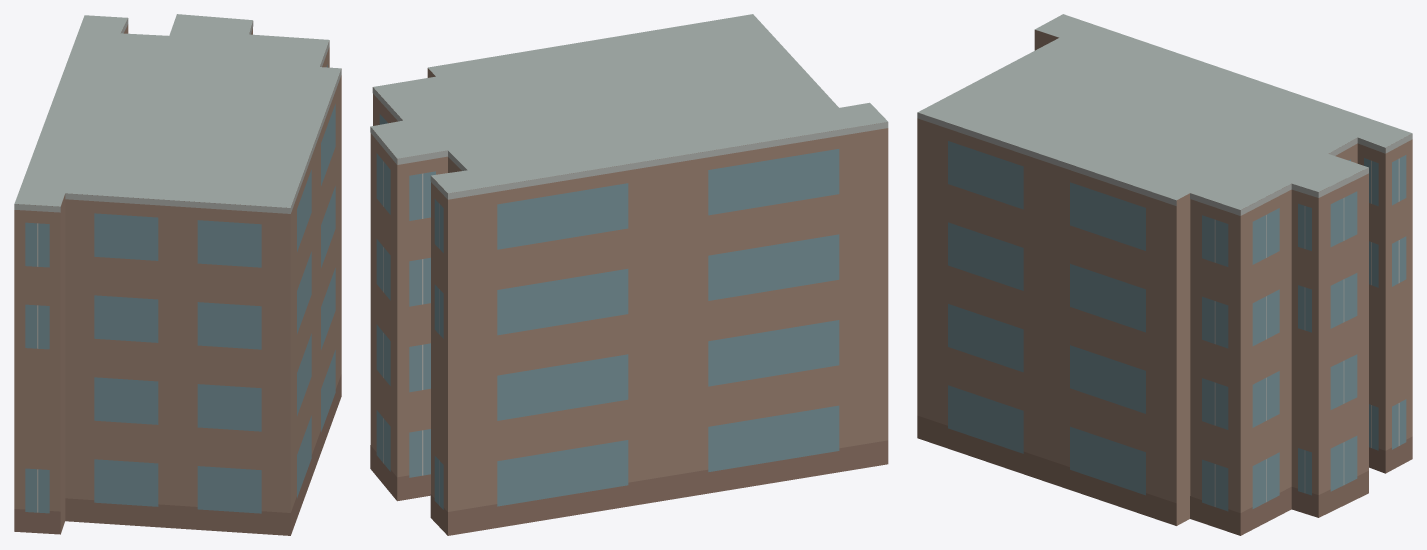
File: survey-upis-32585047.glb
3 views of the same model, side by side, from view 1: azimuth 30°, elevation 25°; view 2: azimuth 150°, elevation 25°; view 3: azimuth 270°, elevation 25° (orthographic). The views are drawn at different scales.
Parts seen in each view (by area): view 1: survey-upis-32585047.tmp; view 2: survey-upis-32585047.tmp; view 3: survey-upis-32585047.tmp.
Part boxes in pixels (x1,y1,x2,y2): survey-upis-32585047.tmp: (14,14,341,535); survey-upis-32585047.tmp: (370,14,888,535); survey-upis-32585047.tmp: (917,14,1412,535).
Bounding box in the file's own units: 17.31 × 13.4 × 18.47.
